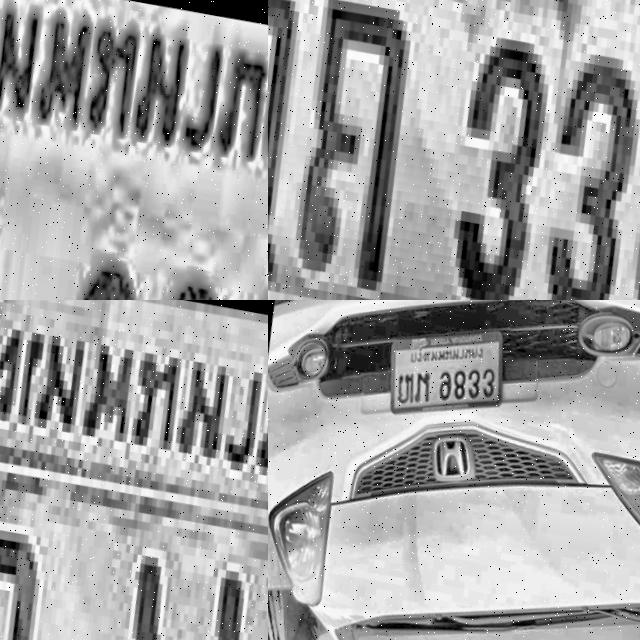license-plate: (268, 0, 640, 300), (0, 300, 268, 640), (0, 0, 268, 300), (372, 308, 517, 439)
